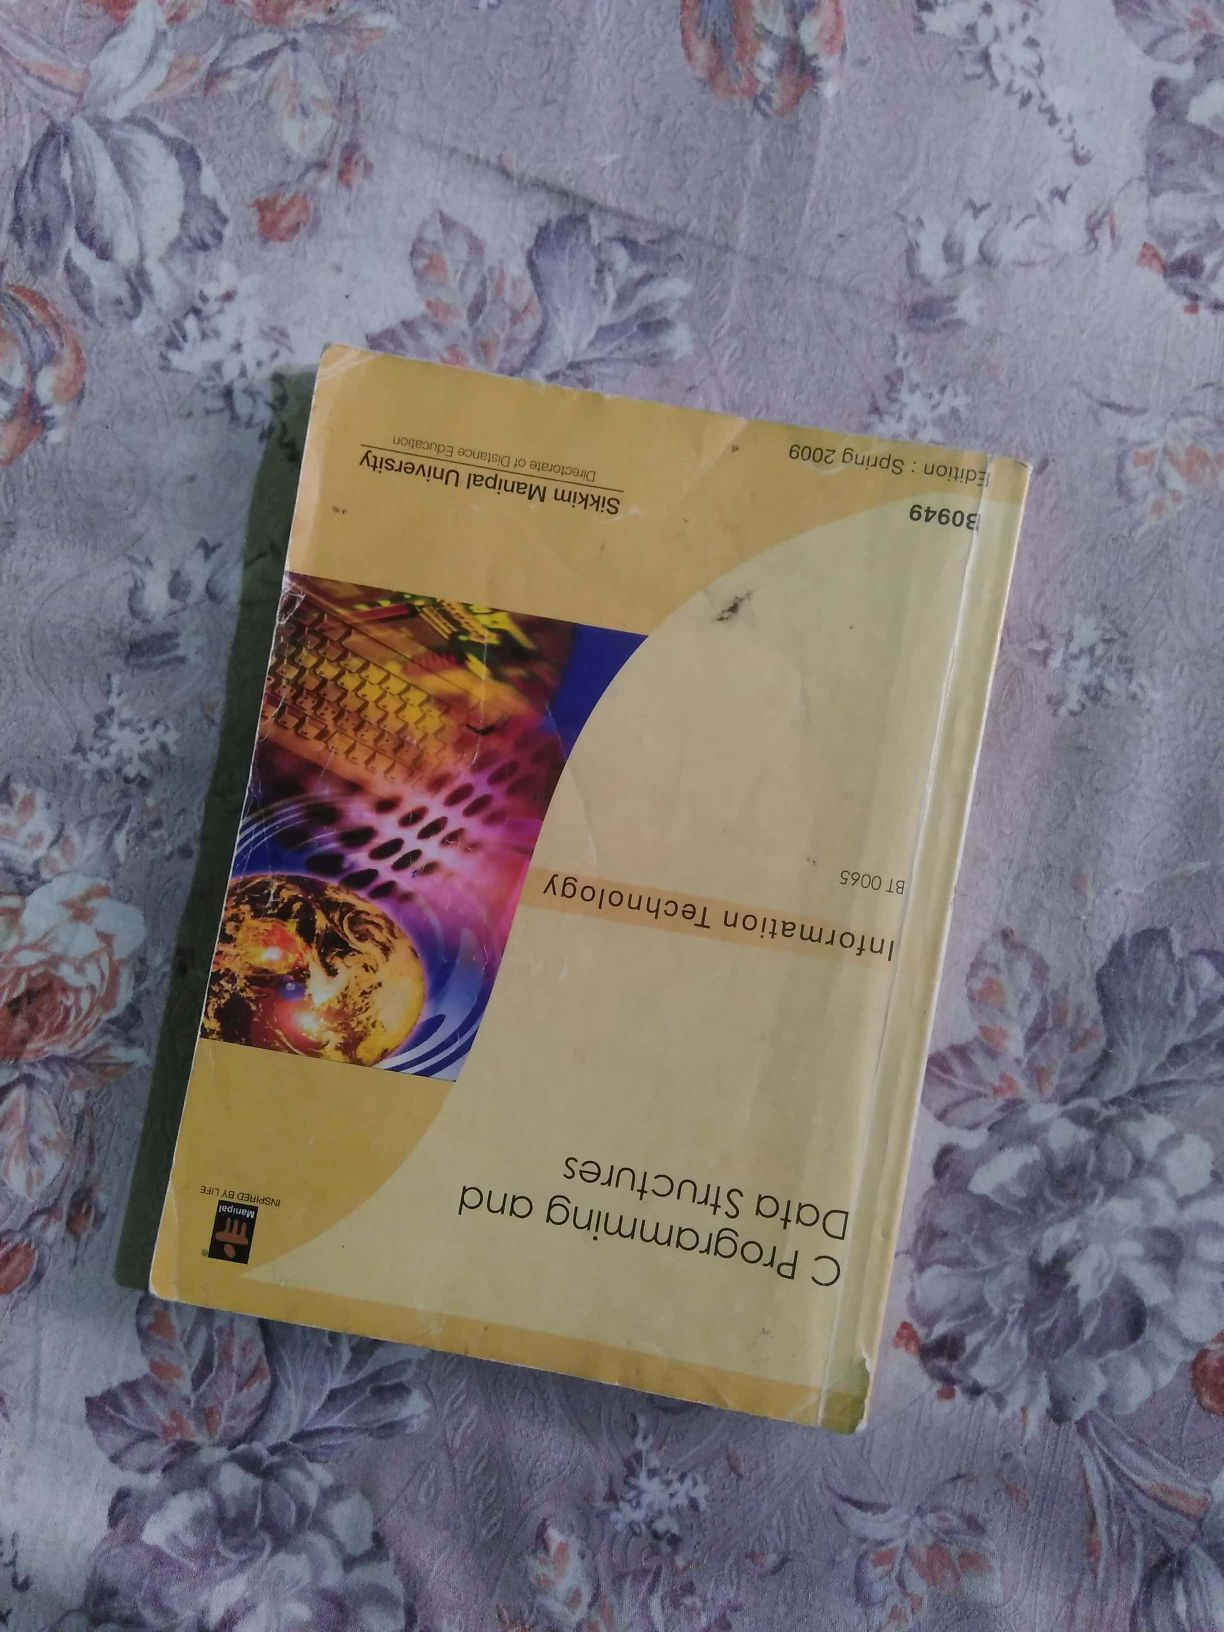clang: (153, 321, 981, 1486)
